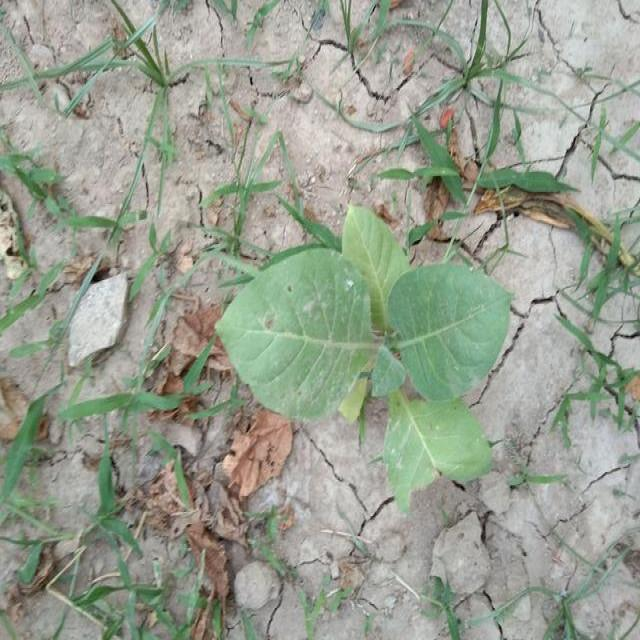crop: (222, 207, 504, 494)
